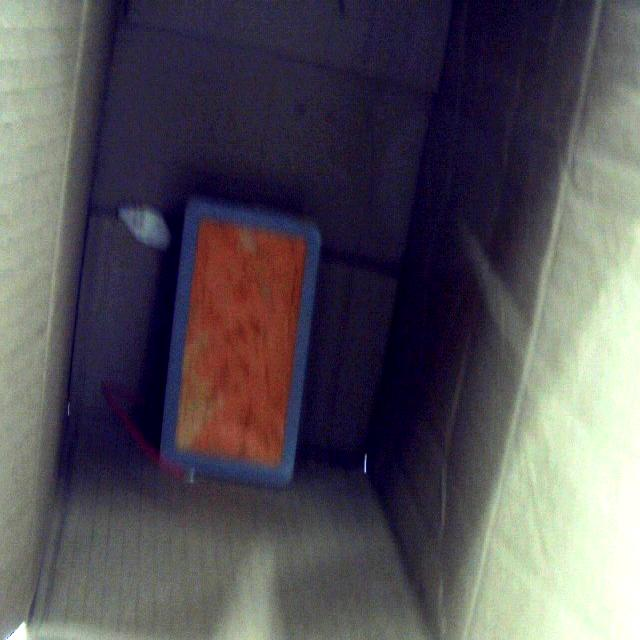block: (160, 198, 323, 490)
